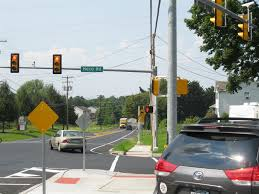signal: (52, 53, 63, 74), (10, 52, 20, 73)
